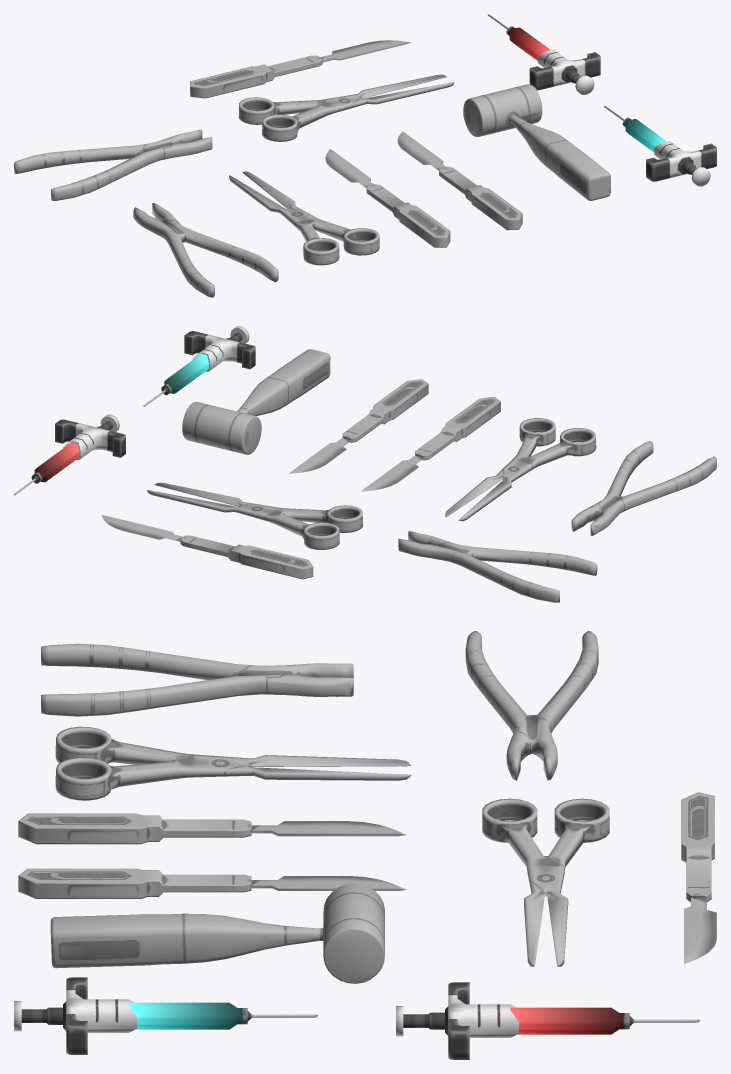
File: MedInstruments01_2.FBX
The picture shows the model from 3 angles, top to bottom: view 1: azimuth 30°, elevation 25°; view 2: azimuth 150°, elevation 25°; view 3: azimuth 270°, elevation 25°; orthographic projection. The views are drawn at different scales.
Parts seen in each view (by area): view 1: MedInstruments01_2; view 2: MedInstruments01_2; view 3: MedInstruments01_2.
Part boxes in pixels (<box>): MedInstruments01_2: <box>14,14,716,297</box>; MedInstruments01_2: <box>14,326,716,602</box>; MedInstruments01_2: <box>14,631,716,1059</box>.
Size of what is drawn, in the model's own units: 0.7489 by 0.0488 by 0.5409.
